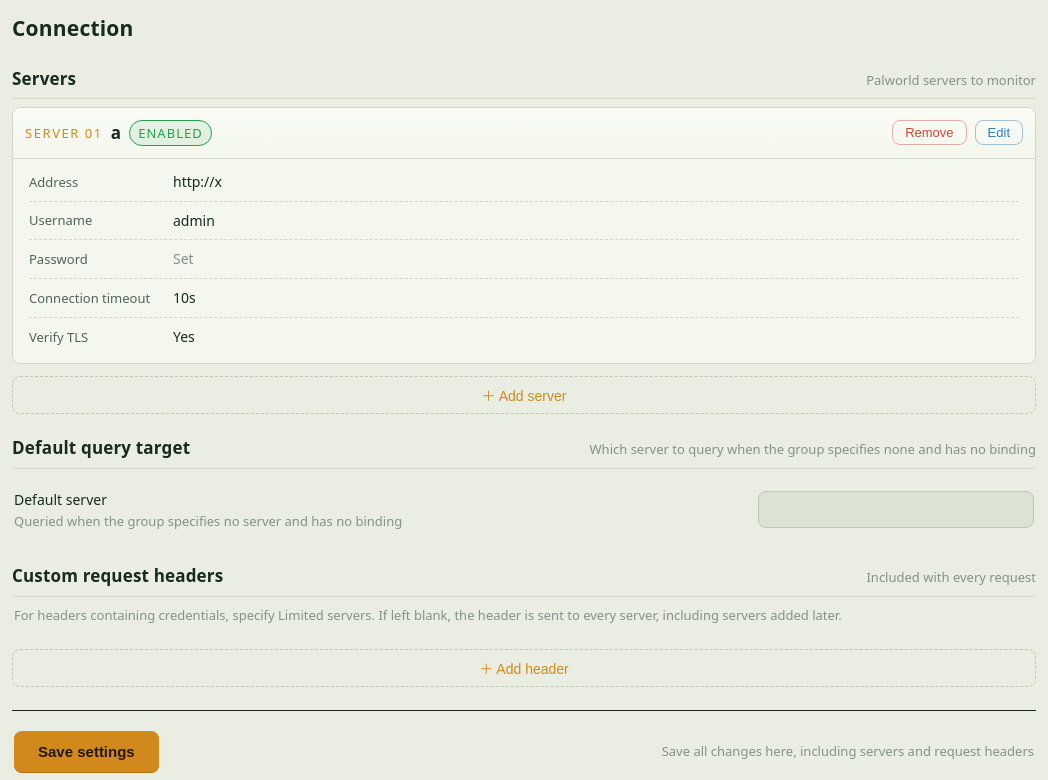
Test: SettingsPanel › 业务错误文案与路径标点随 locale 即时求值
Click the button "Save settings" at (86, 752), box [14,731,159,772]
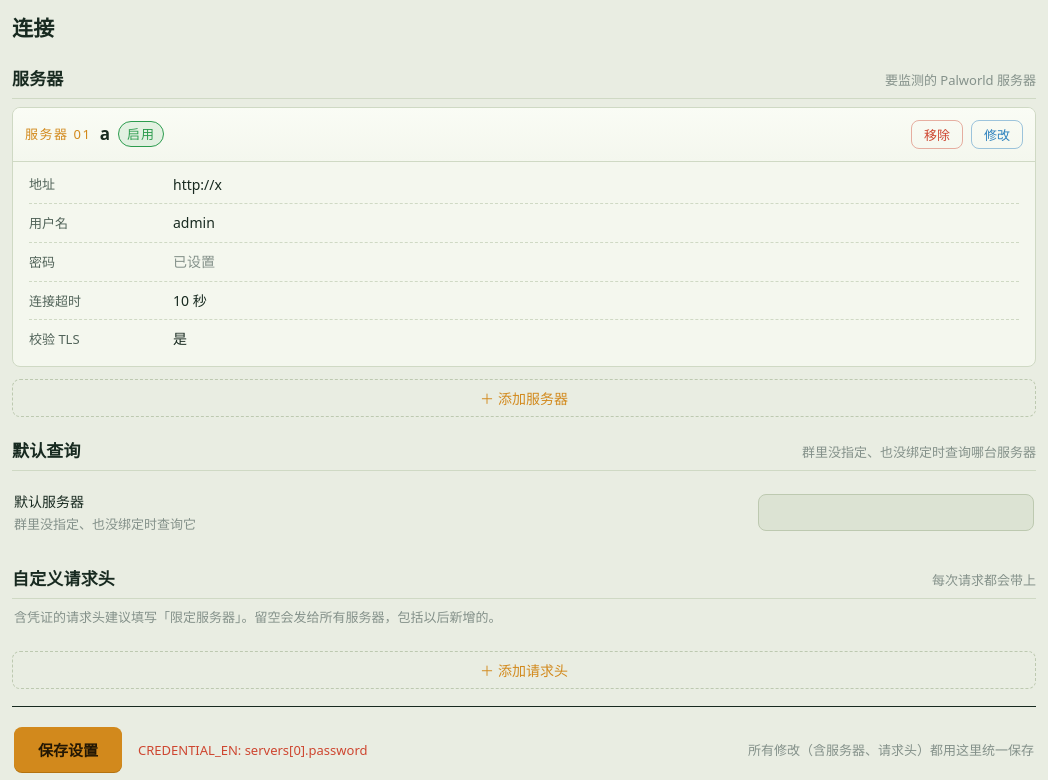
Check: the text "CREDENTIAL_EN: servers[0].password" is shown, box [138,739,368,760]
